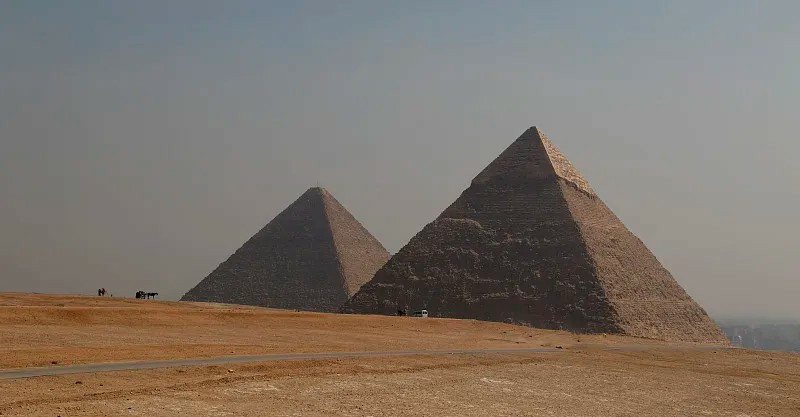Pyramid: (336, 125, 734, 349), (182, 188, 391, 313)
